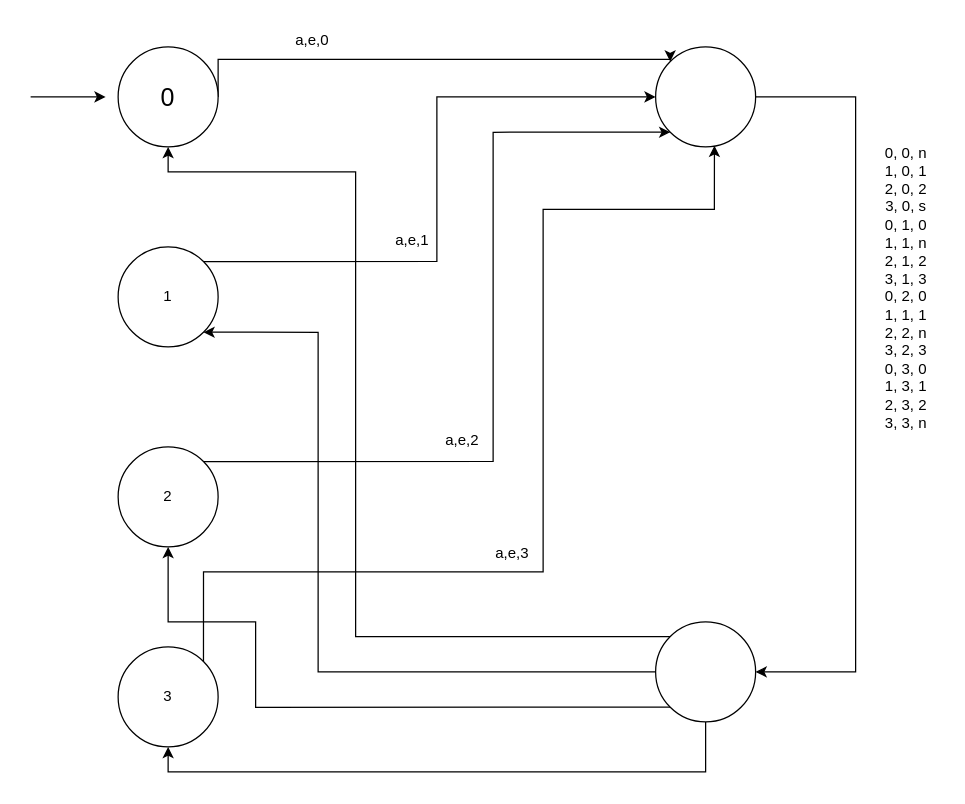
Some shapes in this 965 by 804 pixel diagram are drawn without their labels. The centre of each missing label's shape, as x and y in pixels:
"Ap" goes at (705,96).
"Fp" goes at (705,671).
